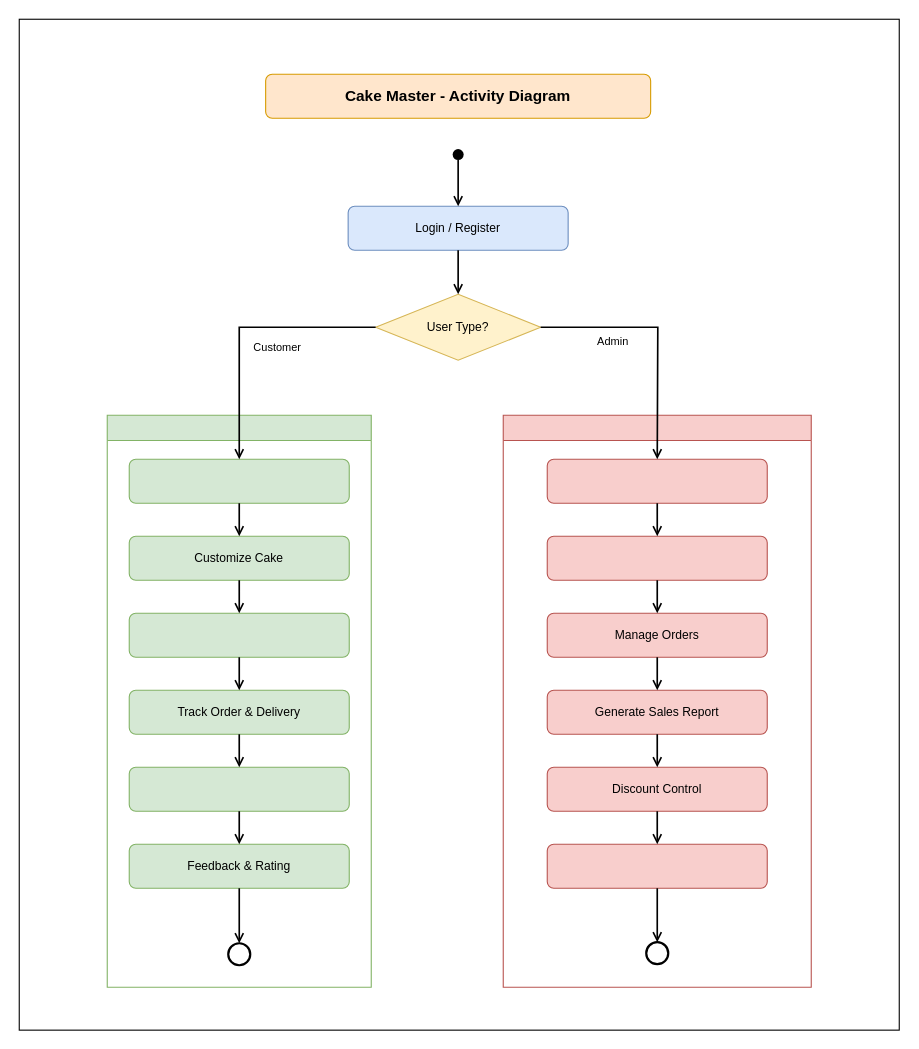
Some shapes in this 919 by 1049 pixel diagram are drawn without their labels. Each missing label, with the centre of its shape:
"Browse Cake Catalog" goes at point (238, 480).
"Delivery Control" goes at point (656, 865).
"Make Payment" goes at point (238, 788).
"Manage Catalog (CRUD)" goes at point (656, 557).
"Manage Customers" goes at point (656, 480).
"Place Order" goes at point (238, 634).
